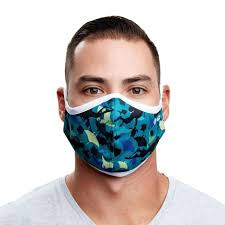cloth_mask: (62, 94, 170, 179)
